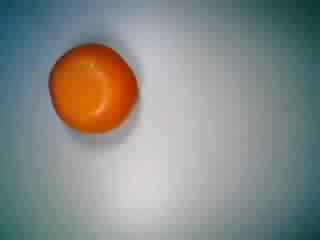orange: (43, 38, 140, 135)
